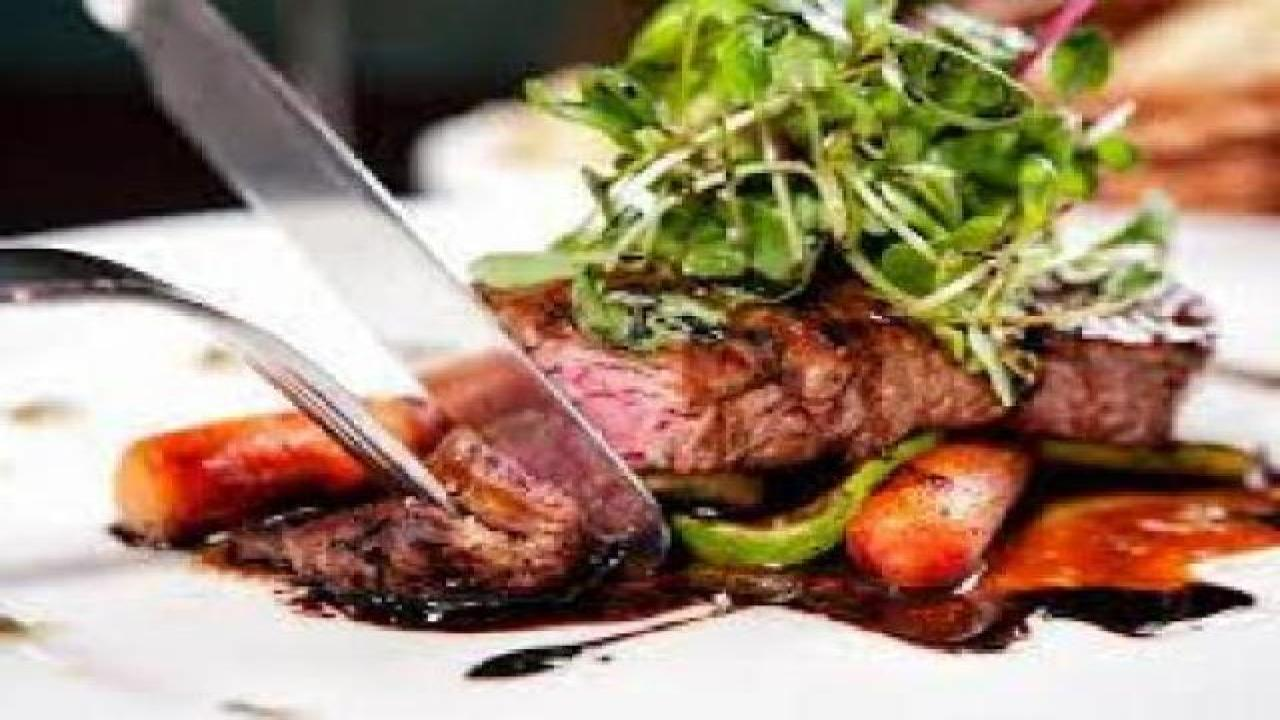Carne: (500, 217, 1217, 478)
